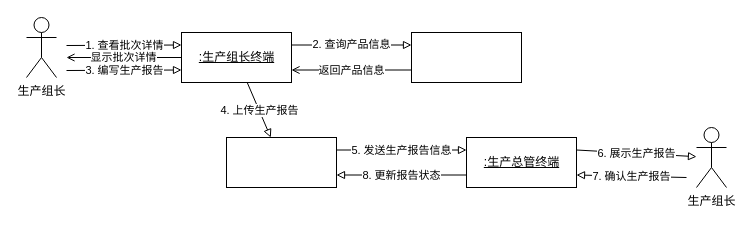
This 752x226 diagram has some shape labels left out. Here are the shapes that lost their labels. From the top down, the box of each, then its label:
(410, 32, 522, 82): :产品信息
(226, 136, 336, 188): :生产报告
